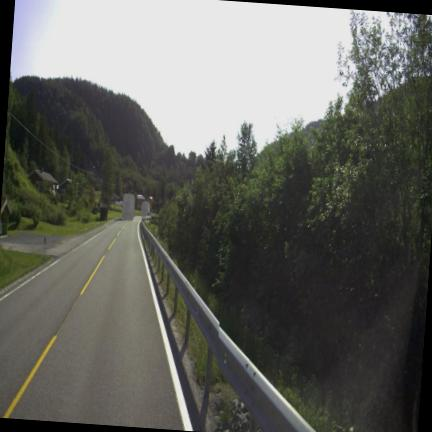Road: (0, 218, 183, 429)
